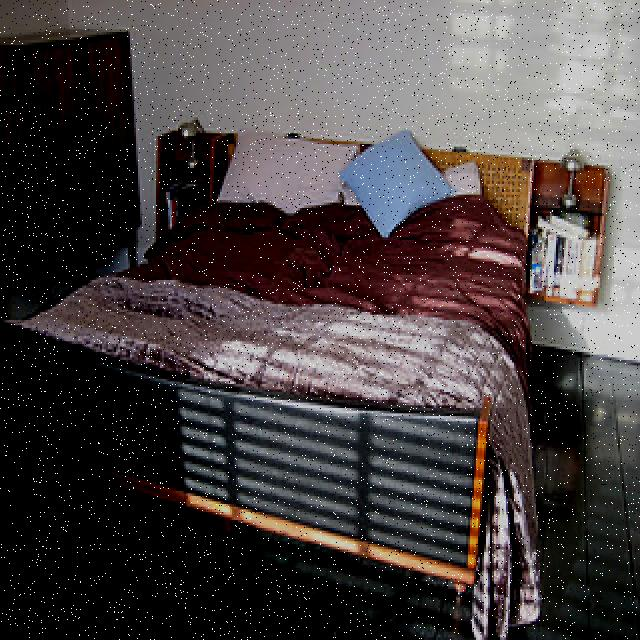bed: (6, 122, 544, 599)
